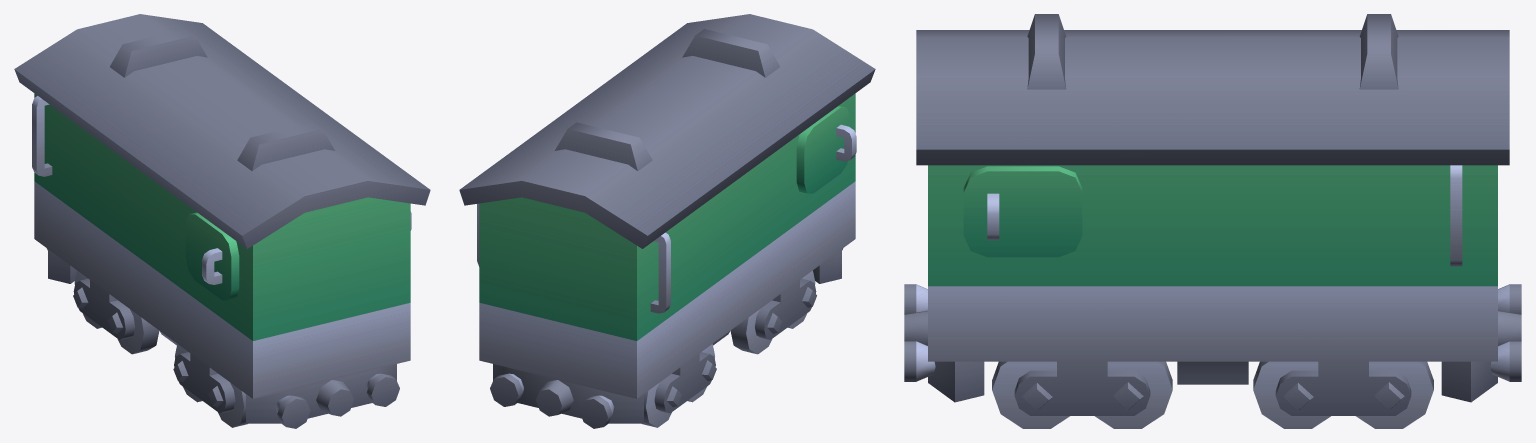
The model's file is kenney-train-train-diesel-box-b.glb.
The picture shows the model from 3 angles, left to right: view 1: azimuth 30°, elevation 25°; view 2: azimuth 150°, elevation 25°; view 3: azimuth 270°, elevation 25°; orthographic projection. The views are drawn at different scales.
Visible parts, largest first — view 1: train-diesel-box-b, wheels-back, wheels-front; view 2: train-diesel-box-b, wheels-front, wheels-back; view 3: train-diesel-box-b, wheels-front, wheels-back.
Part boxes in pixels (x1,y1,x2,y2): train-diesel-box-b: (14, 14, 430, 428); wheels-back: (73, 270, 159, 354); wheels-front: (173, 344, 247, 427); train-diesel-box-b: (459, 14, 875, 428); wheels-front: (730, 270, 816, 354); wheels-back: (642, 344, 716, 427); train-diesel-box-b: (904, 14, 1521, 402); wheels-front: (992, 361, 1172, 428); wheels-back: (1253, 361, 1433, 428).
Bounding box in the file's own units: 1.3 × 1.65 × 2.6.
Materials: 1 (1 with a texture image).
